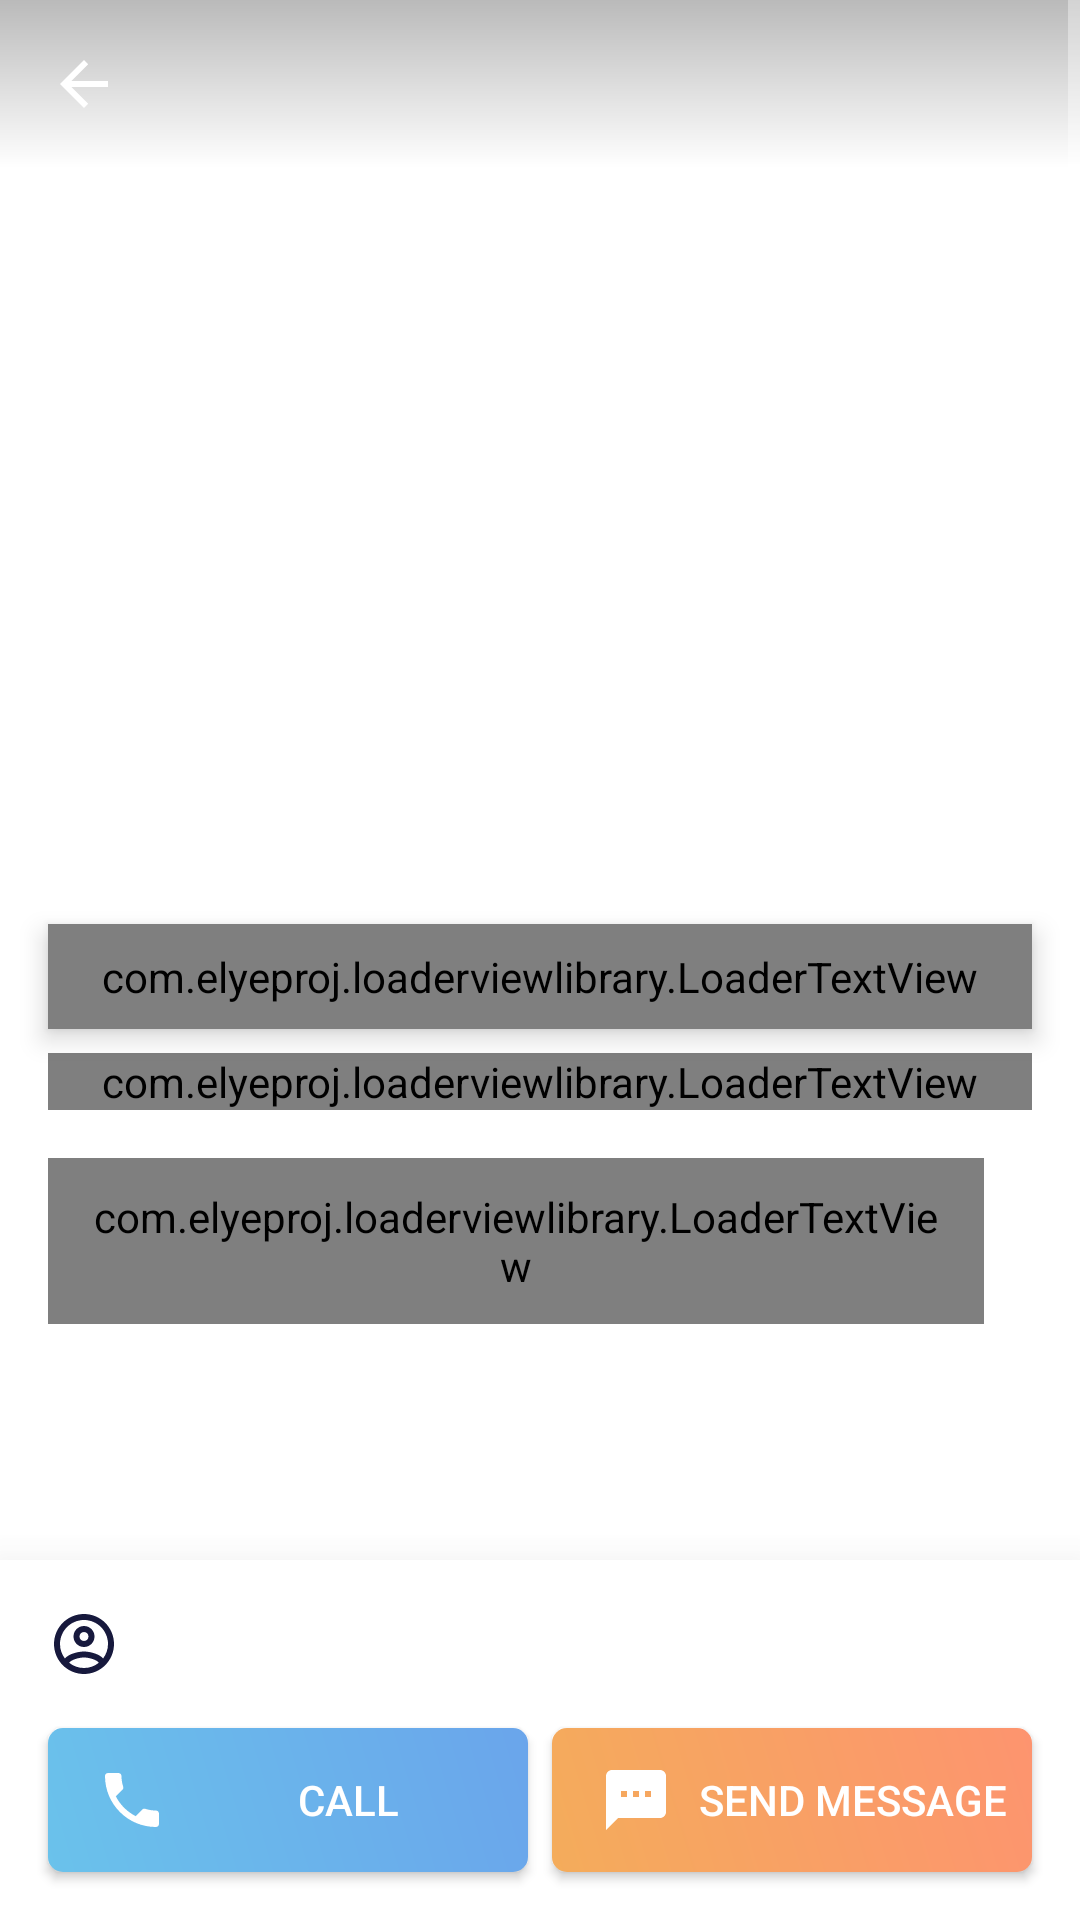

Screen size 1080*1920. Icon name, then its center in pixels as (x=x, y=y):
account: (x=84, y=1644)
